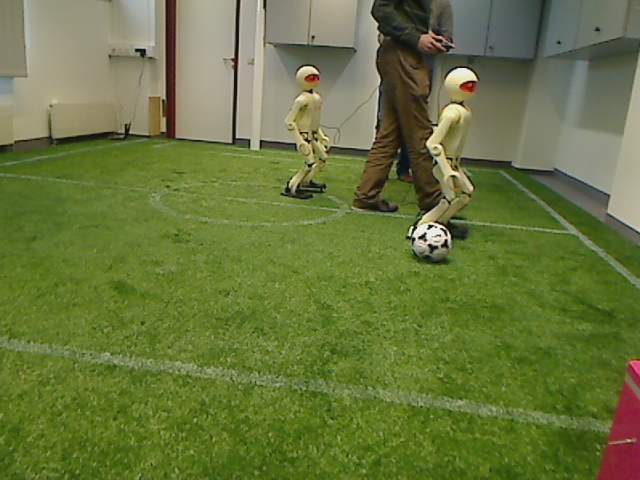ball: (408, 220, 455, 264)
robot: (415, 68, 477, 241), (284, 65, 329, 200)
